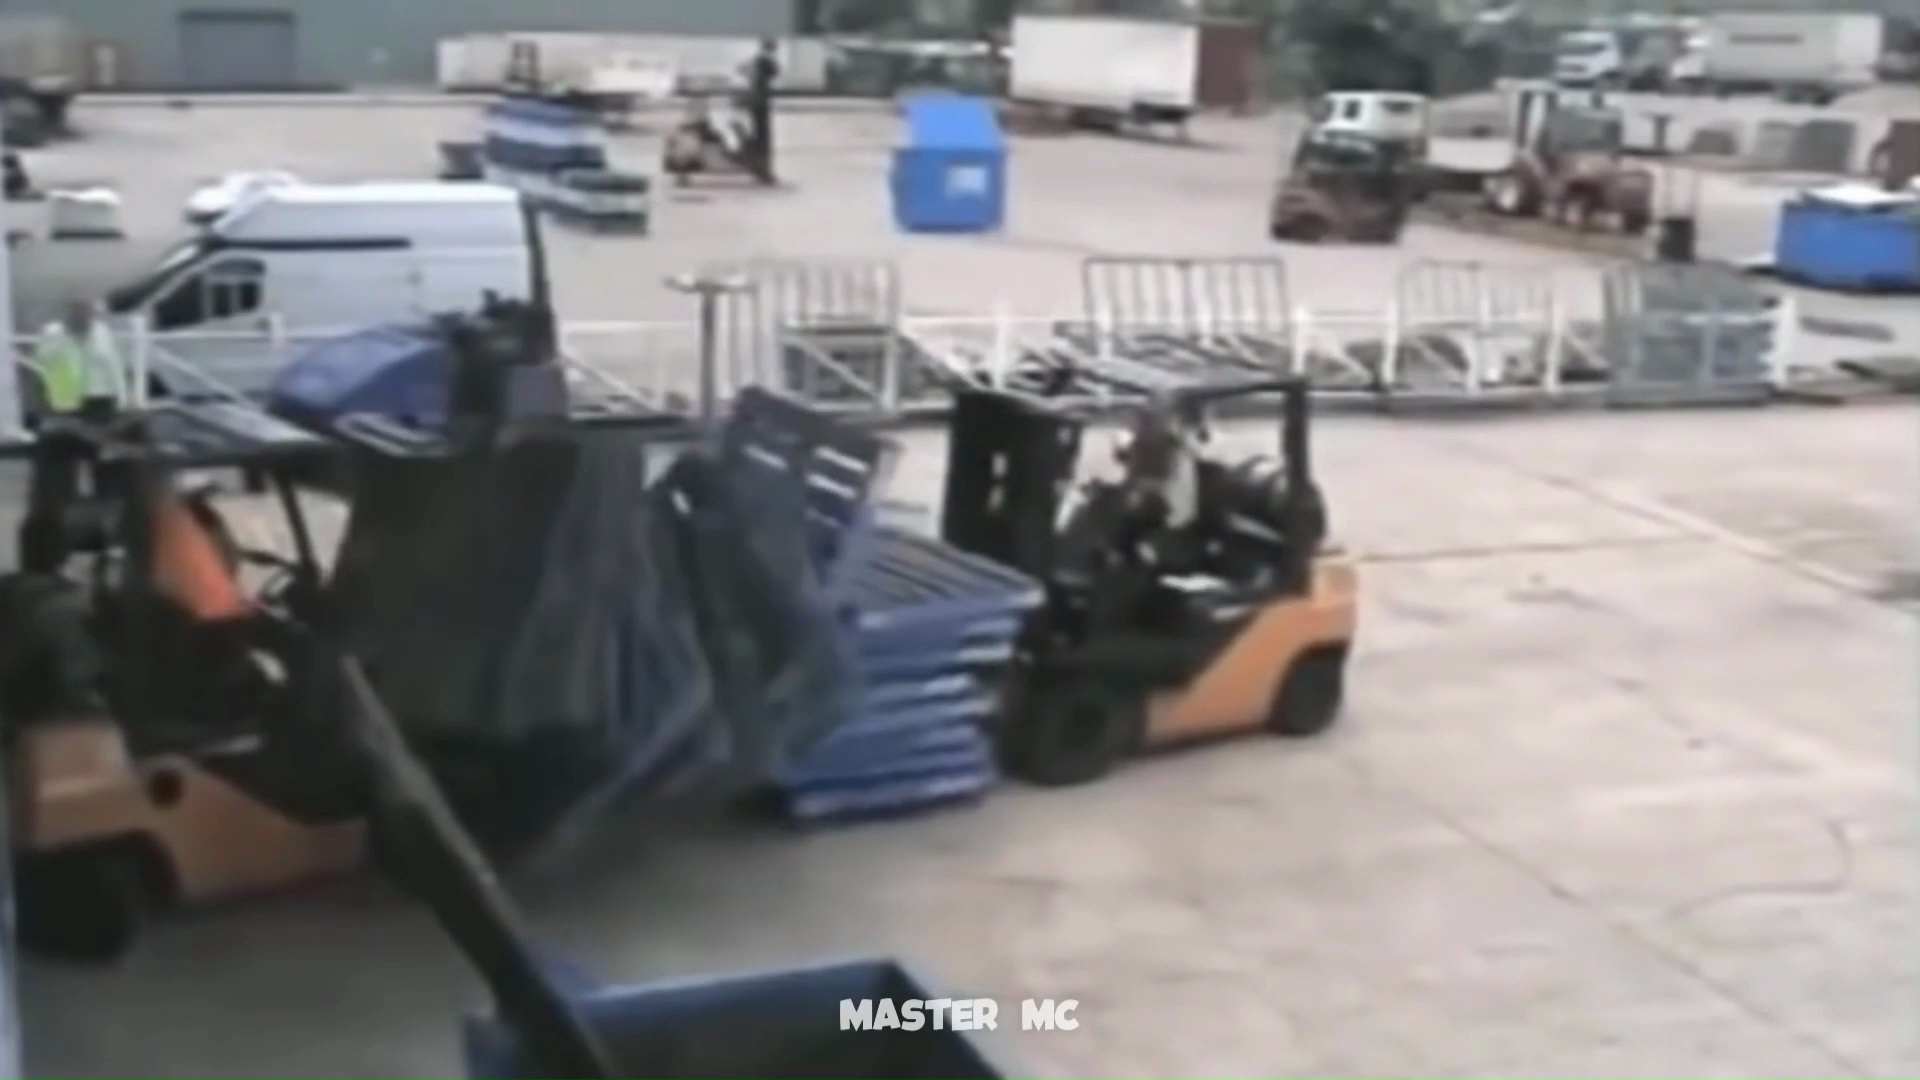forklift: (3, 388, 758, 953), (691, 330, 1367, 818)
